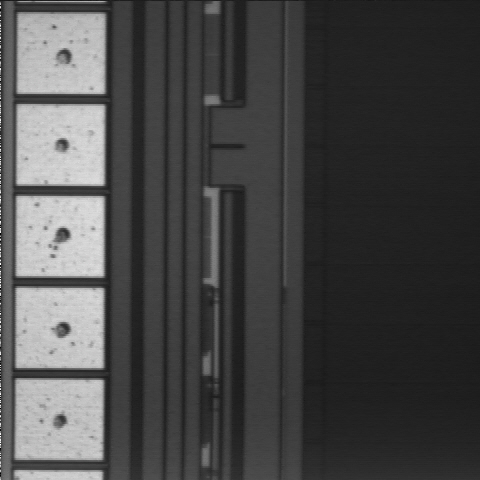pad: (17, 105, 104, 186), (17, 196, 104, 276), (16, 288, 103, 368), (16, 380, 103, 460), (18, 14, 104, 94)
